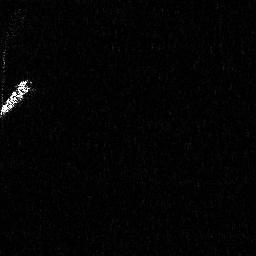ship: (1, 74, 36, 122)
